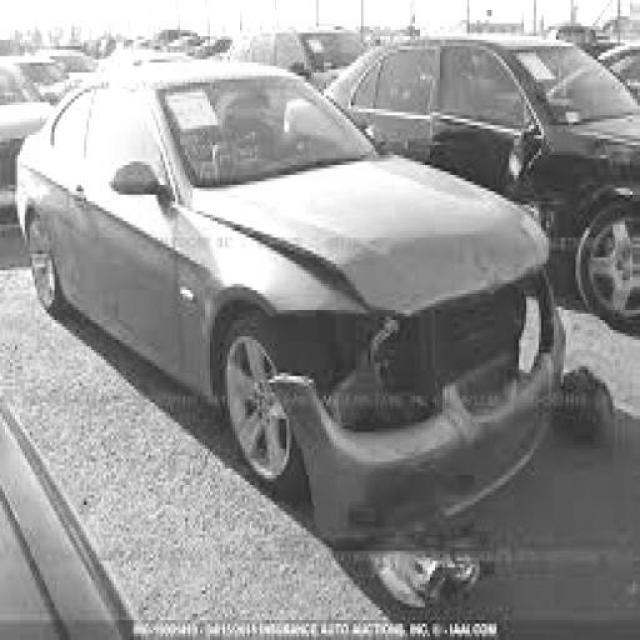car damage: (203, 205, 568, 548)
